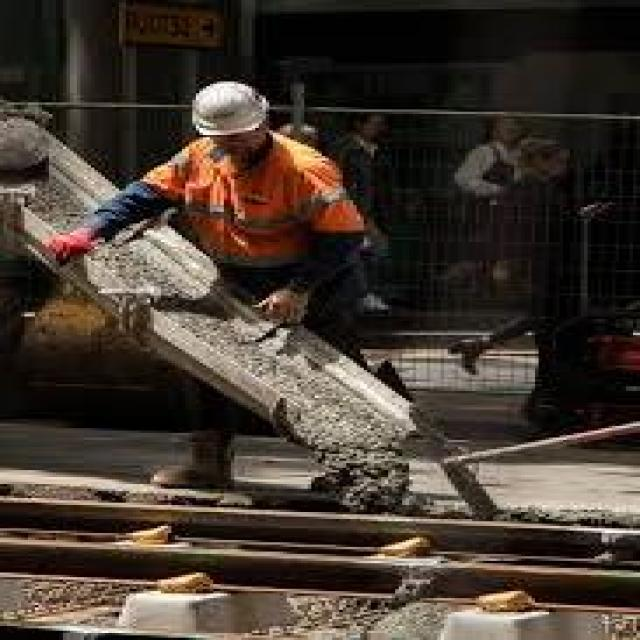Reflective-Jacket: (136, 138, 378, 280)
Safety-Helmet: (172, 72, 284, 142)
